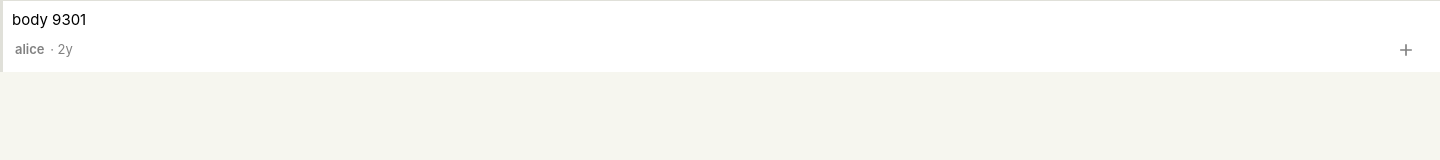
Scenario: <Comment> downvote wiring › tapping an already-downvoted comment sends how=un and clears aria-pressed
This screenshot has width=1440, height=160.
Expected: the text "body 9301" is shown, x1=12 y1=10 x2=86 y2=29
Click the button named "expand comment".
click(1406, 50)  # box x1=1384 y1=32 x2=1428 y2=68
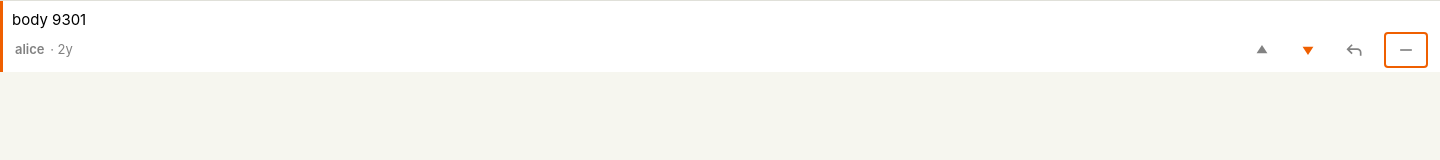
Click the button with test id "comment-downvote".
click(1308, 50)  # box x1=1286 y1=32 x2=1330 y2=68
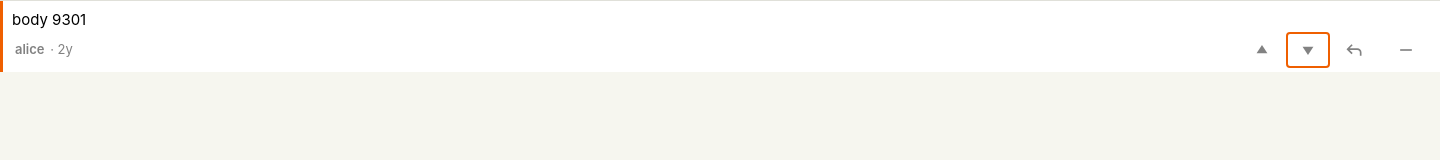
Now the button with test id "comment-downvote" is not pressed, box x1=1286 y1=32 x2=1330 y2=68
